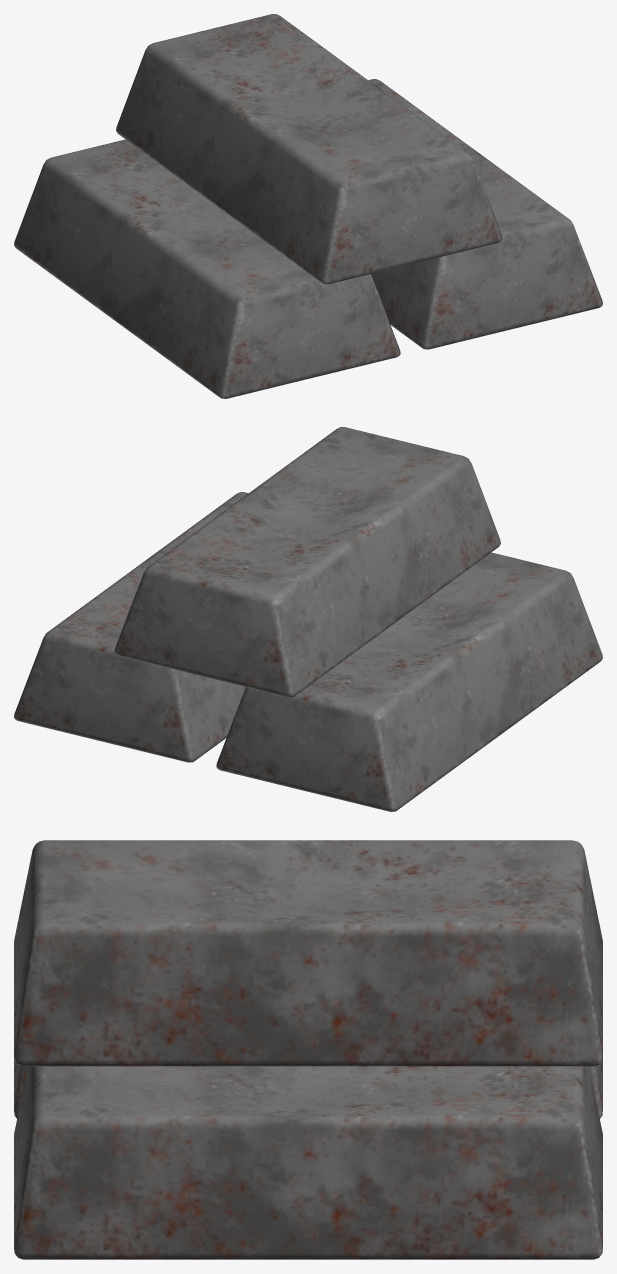
Rendered from iron_ingots.b7d14eaefd.glb.
3 renders of one model, top to bottom at view 1: azimuth 30°, elevation 25°; view 2: azimuth 150°, elevation 25°; view 3: azimuth 270°, elevation 25°, orthographic. The views are drawn at different scales.
Parts seen in each view (by area): view 1: iron_ingots_0, iron_ingots_1, iron_ingots_2; view 2: iron_ingots_0, iron_ingots_1, iron_ingots_2; view 3: iron_ingots_0, iron_ingots_2, iron_ingots_1.
Part boxes in pixels (left/top/right/bottom): iron_ingots_0: left=116, top=14, right=502, bottom=284; iron_ingots_1: left=14, top=139, right=400, bottom=398; iron_ingots_2: left=368, top=79, right=602, bottom=349; iron_ingots_0: left=114, top=427, right=500, bottom=697; iron_ingots_1: left=216, top=552, right=602, bottom=811; iron_ingots_2: left=14, top=492, right=248, bottom=762; iron_ingots_0: left=14, top=840, right=602, bottom=1066; iron_ingots_2: left=14, top=1066, right=602, bottom=1259; iron_ingots_1: left=14, top=1057, right=602, bottom=1118.
Size of the model in its own units: 0.26 by 0.1164 by 0.2485.
1 material, 1 textured.
